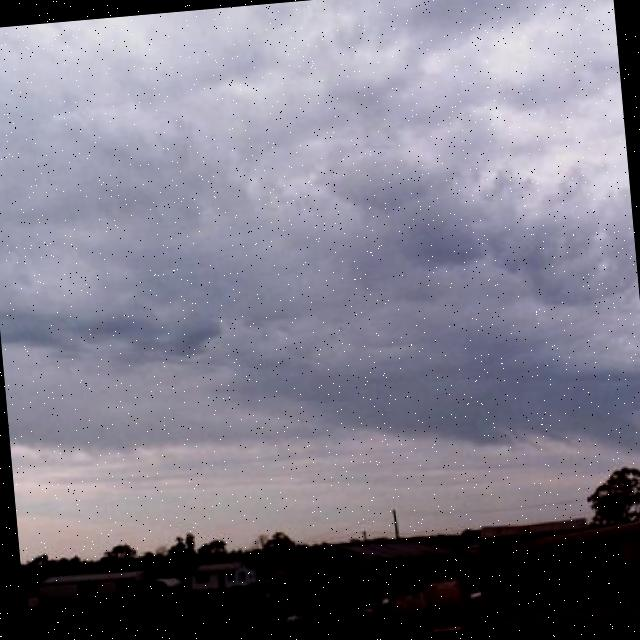Cs: (1, 1, 640, 499)
